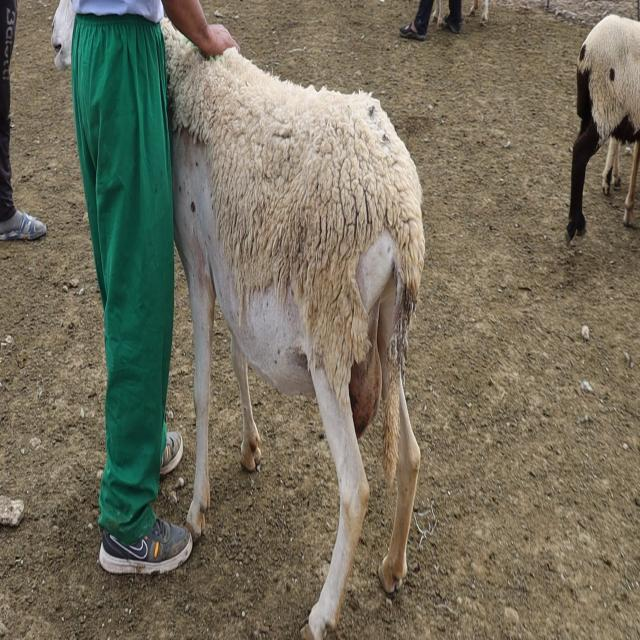Score_2: (161, 20, 425, 639)
